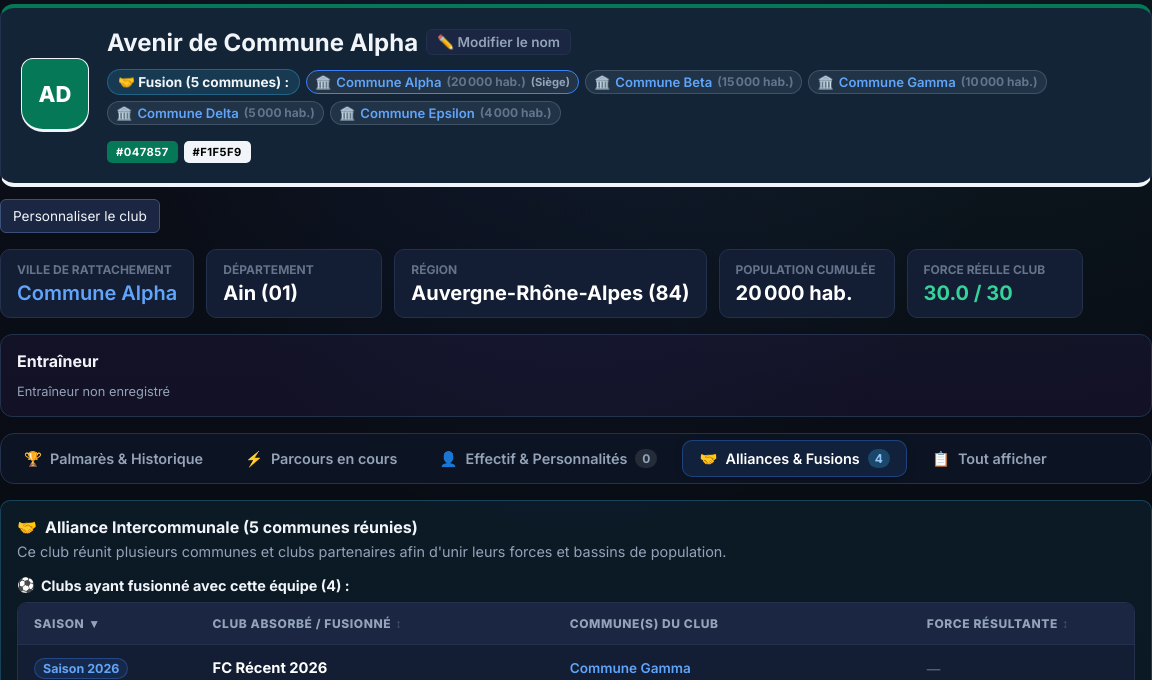
Test case: TeamPage - Club Renaming › sorts alliances and fusions table from most recent date to oldest date
Check: the text "⚽ Clubs ayant fusionné avec cette équipe (4) :" is shown, box [17,576,350,594]
# Click on "Saison" header to toggle sort to ascending (oldest first)
Step 1. Click the column heading "Saison ▼" → click(107, 624), box [18,603,196,644]
(page scrolled)
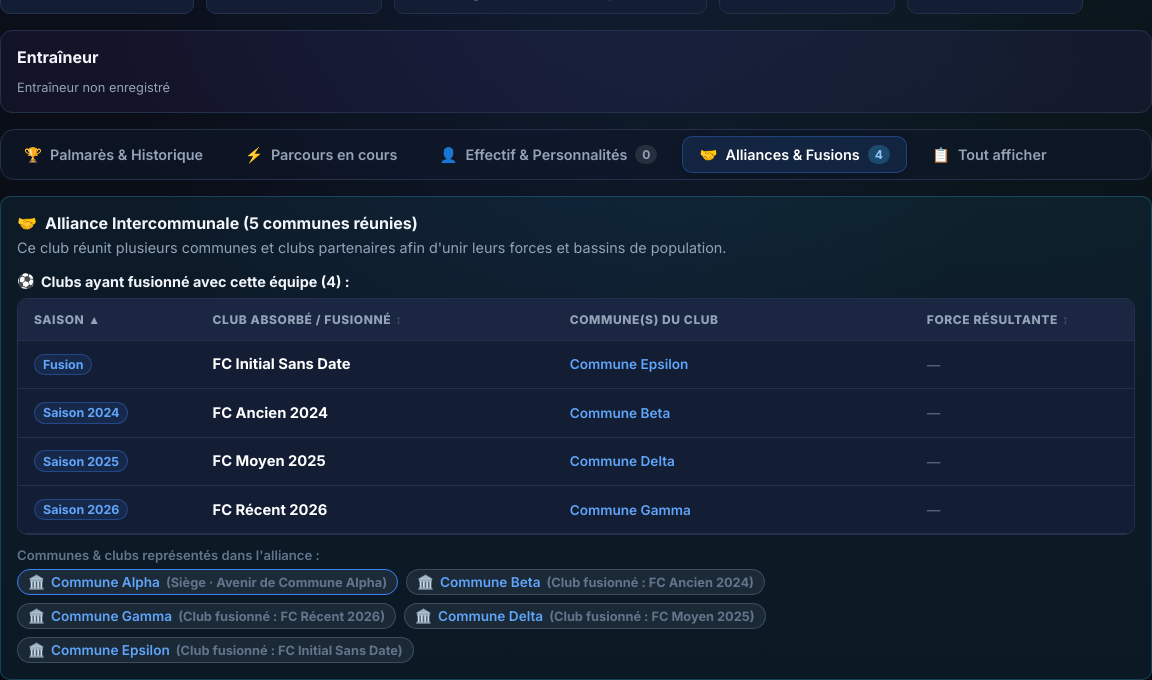
Check: the row "Fusion FC Initial Sans Date Commune Epsilon —" is shown, box [18,340,1134,389]
Check: the row "Saison 2024 FC Ancien 2024 Commune Beta —" is shown, box [18,389,1134,437]
Check: the row "Saison 2025 FC Moyen 2025 Commune Delta —" is shown, box [18,437,1134,485]
